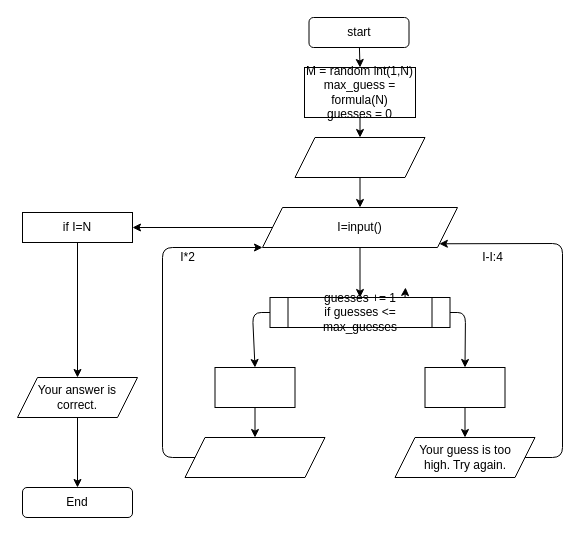
This 588x535 diagram has some shape labels left out. Each missing label, with the centre of its shape:
"if I < N" goes at point 254,387.
"if I > N" goes at point 464,387.
"Number created, make your guess" goes at point 359,157.
"Your guess is too low. Try again." goes at point 254,457.
